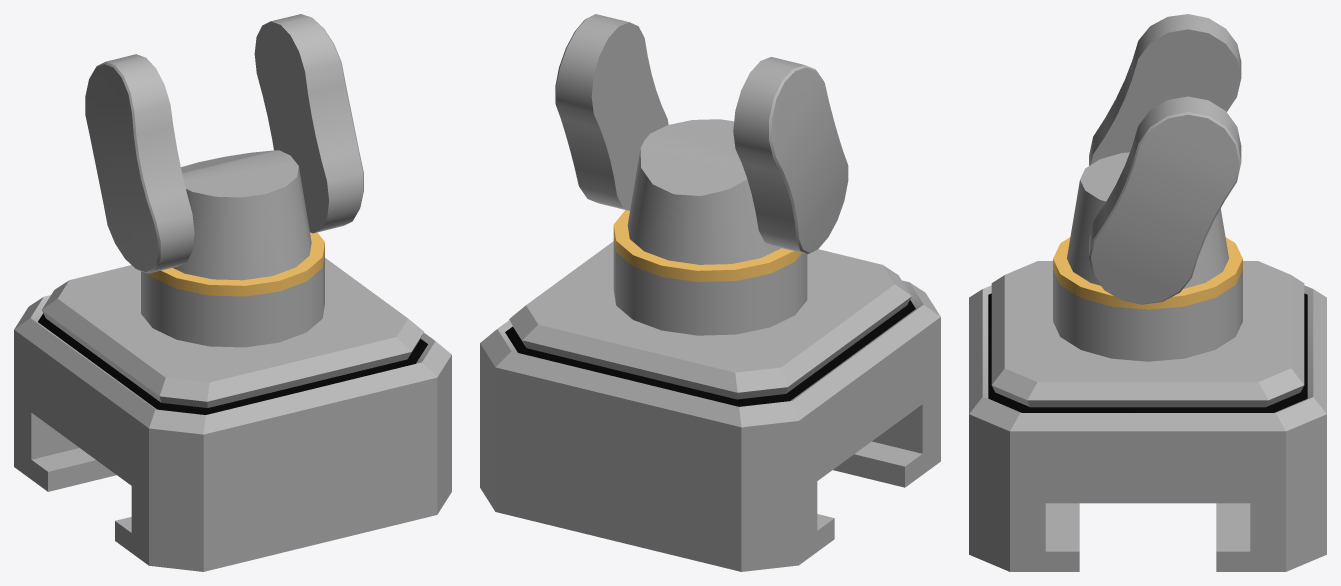
The model's file is Arm_024a.gltf.
3 renders of one model, left to right at view 1: azimuth 30°, elevation 25°; view 2: azimuth 150°, elevation 25°; view 3: azimuth 270°, elevation 25°, orthographic. The views are drawn at different scales.
Visible parts, largest first — view 1: Cube.168; view 2: Cube.168; view 3: Cube.168.
Part boxes in pixels (x1,y1,x2,y2): Cube.168: (14, 14, 451, 571); Cube.168: (480, 14, 940, 571); Cube.168: (969, 14, 1326, 571).
Bounding box in the file's own units: 1.25 × 1.68 × 1.25.
